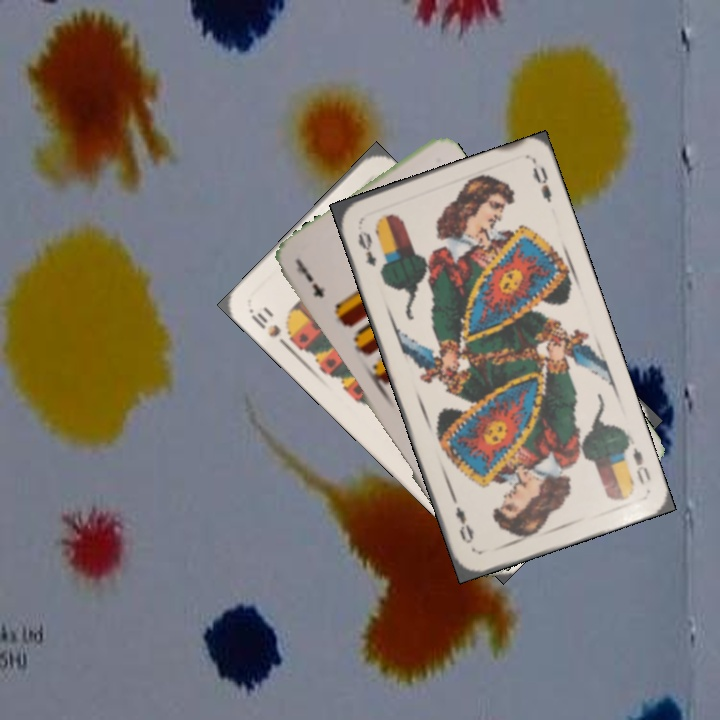E7: (292, 258, 326, 301)
EO: (628, 443, 654, 488), (354, 226, 379, 269)
S10: (246, 305, 293, 352)
